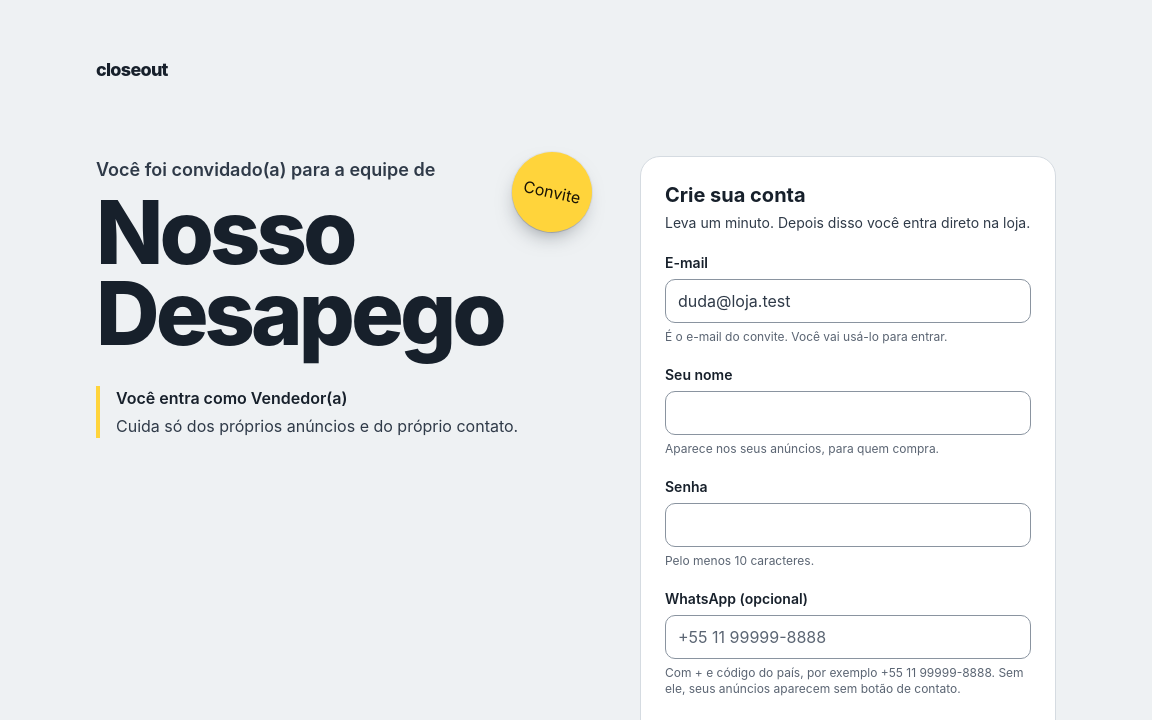
invite page › shows the API's message when the invited email already has an account
Type "Duda" into the field labelled "Seu nome" at (848, 413), box [665,391,1031,435]
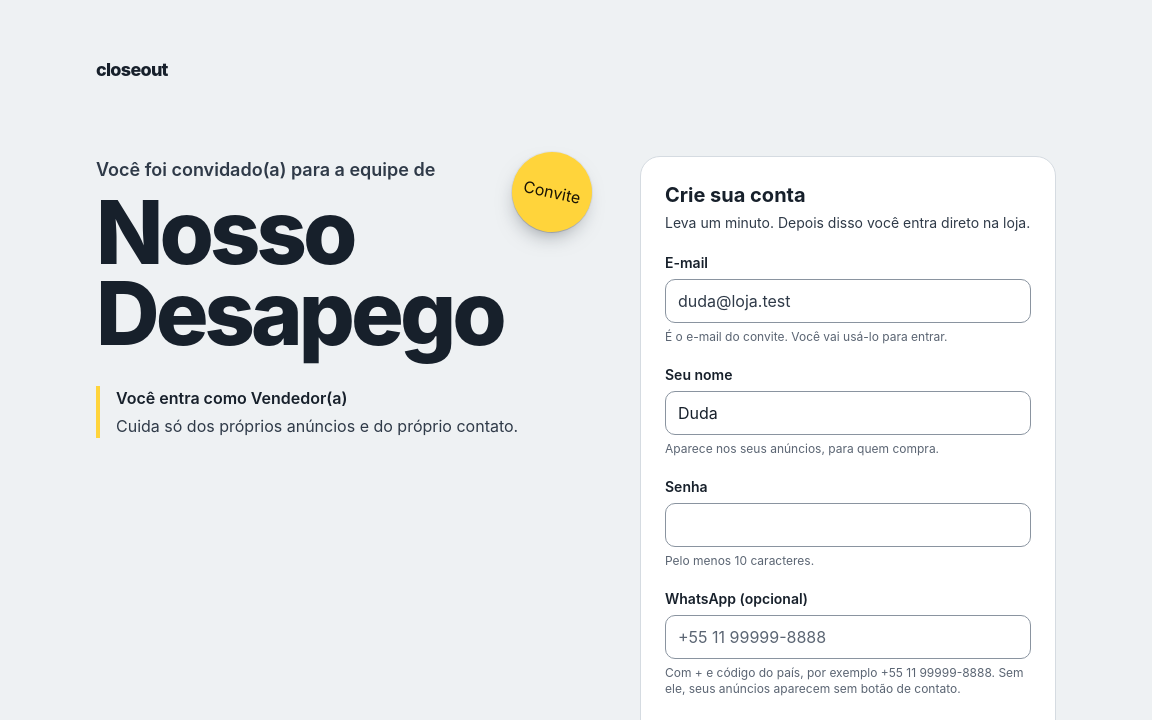
Type "senha-longa-1" into the password field labelled "Senha" at (848, 525), box [665,503,1031,547]
(page scrolled)
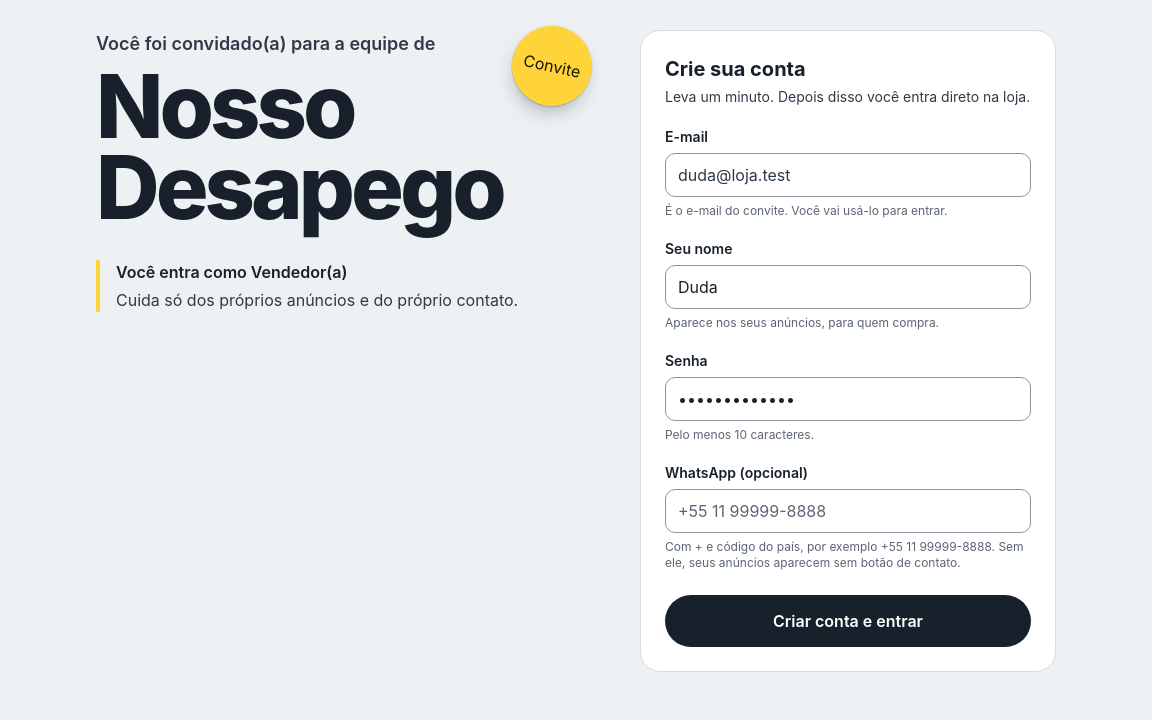
Click the button "Criar conta e entrar" at (848, 621), box [665,595,1031,647]
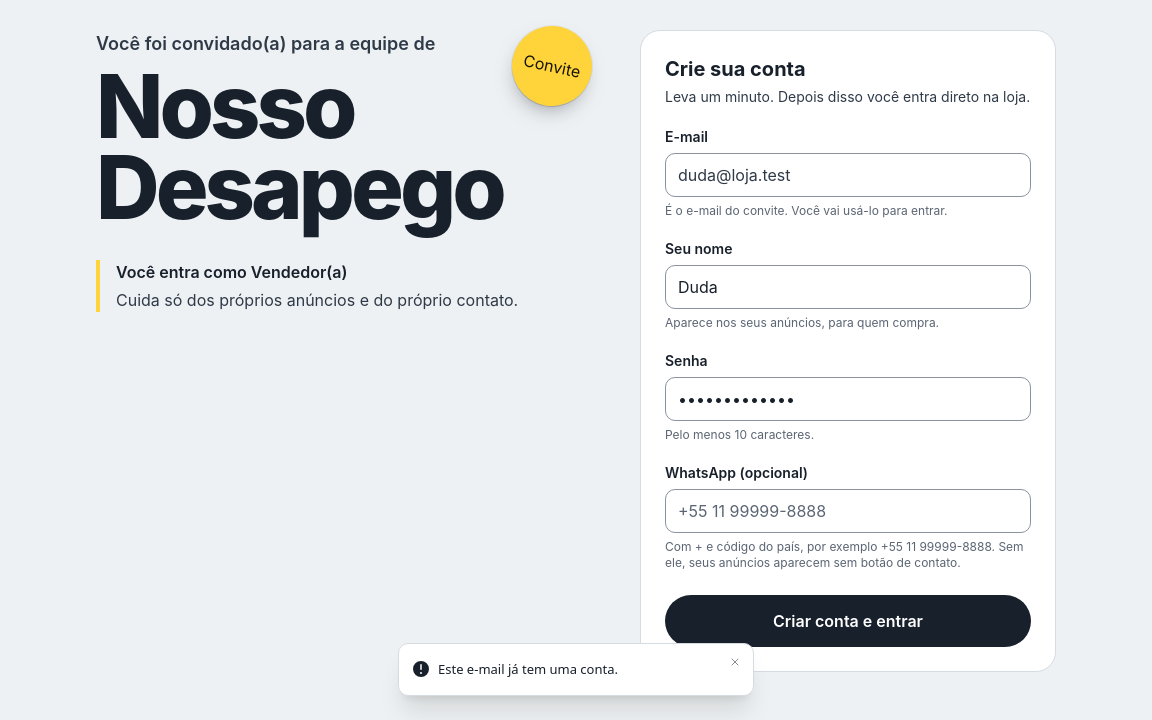
Now the text "Este e-mail já tem uma conta." is shown, box [438,660,618,678]
